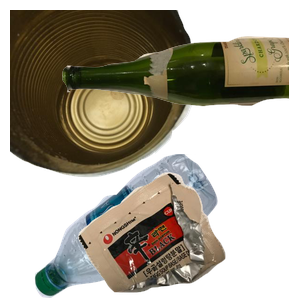glass: (60, 34, 300, 133)
metal: (10, 10, 200, 180)
plastic: (32, 154, 242, 300)
trash: (76, 170, 300, 300)
